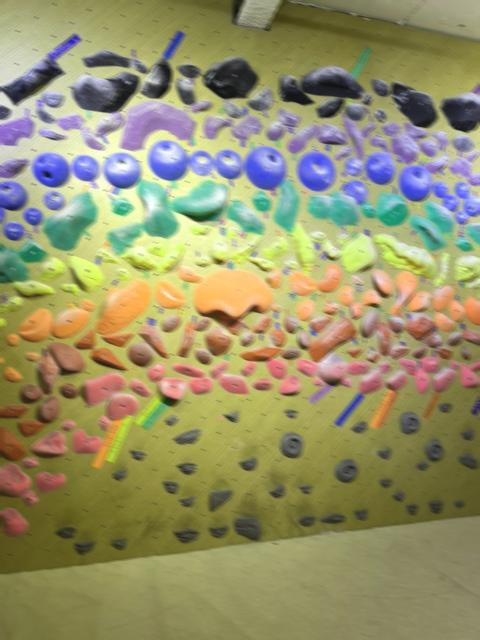crimp: (288, 125, 318, 152), (230, 116, 261, 139), (289, 272, 315, 295), (247, 87, 272, 110), (81, 127, 103, 149), (56, 114, 84, 129), (172, 364, 204, 377), (277, 108, 300, 126), (424, 155, 448, 172), (177, 266, 201, 281), (404, 123, 426, 139), (309, 316, 332, 331), (96, 248, 119, 262), (210, 361, 228, 378), (38, 128, 65, 139), (253, 315, 270, 331), (359, 200, 374, 217), (270, 330, 285, 345), (323, 300, 339, 314), (37, 109, 54, 122), (388, 347, 408, 358), (435, 346, 452, 358), (335, 147, 351, 159), (241, 362, 255, 375), (190, 225, 210, 234), (465, 150, 478, 161), (80, 300, 94, 310), (226, 227, 237, 238), (378, 361, 390, 371), (338, 234, 348, 243), (462, 347, 470, 358), (352, 275, 362, 283), (26, 353, 39, 359), (285, 261, 297, 267), (146, 318, 155, 325)
jib: (420, 357, 438, 371), (6, 334, 18, 344), (450, 360, 459, 367), (400, 340, 405, 344)
jug: (374, 233, 435, 275), (170, 180, 227, 221), (391, 81, 437, 127), (302, 65, 363, 96), (440, 93, 480, 131), (84, 373, 124, 404), (227, 200, 263, 233), (391, 271, 417, 313), (0, 114, 34, 144), (375, 193, 408, 223), (0, 248, 28, 281), (106, 394, 138, 419), (0, 427, 25, 459), (91, 348, 126, 369), (72, 430, 102, 451), (204, 116, 232, 138), (318, 265, 341, 291), (17, 241, 46, 261), (456, 255, 480, 279), (37, 396, 60, 421), (13, 281, 54, 295), (232, 235, 258, 257), (36, 472, 65, 491), (122, 246, 149, 266), (318, 124, 346, 143), (0, 158, 28, 177), (359, 370, 382, 393), (264, 237, 288, 257), (17, 420, 45, 435), (20, 384, 42, 401), (174, 429, 200, 443), (128, 379, 150, 395), (404, 123, 426, 139), (414, 368, 429, 391), (211, 238, 227, 259), (111, 198, 132, 214), (266, 121, 284, 139), (434, 313, 453, 330), (210, 361, 228, 378), (266, 268, 281, 287), (324, 241, 339, 258), (59, 383, 77, 397), (458, 454, 477, 467), (22, 490, 38, 505), (239, 456, 257, 469), (323, 300, 339, 314), (424, 333, 441, 346), (192, 100, 212, 111), (456, 237, 472, 250), (61, 284, 79, 295), (7, 296, 21, 310), (447, 332, 462, 345), (309, 230, 325, 242), (413, 344, 426, 358), (240, 332, 254, 345), (223, 409, 238, 421), (113, 467, 127, 479), (366, 350, 378, 362), (461, 428, 474, 439), (116, 268, 129, 279), (180, 495, 194, 505), (196, 256, 210, 265), (130, 450, 144, 459), (469, 360, 480, 370), (144, 258, 156, 267), (467, 279, 480, 287), (145, 258, 156, 267), (284, 410, 297, 417), (338, 234, 348, 243), (235, 255, 245, 263)
ledge: (122, 101, 195, 150), (121, 101, 194, 149), (43, 192, 97, 249), (95, 280, 150, 335), (2, 58, 63, 103), (74, 71, 138, 111), (204, 56, 257, 98), (307, 317, 357, 359), (108, 223, 142, 252), (329, 192, 359, 224), (138, 326, 167, 356), (425, 201, 453, 232), (288, 125, 318, 152), (155, 281, 184, 307), (83, 50, 130, 66), (205, 326, 231, 354), (391, 134, 417, 162), (230, 116, 261, 139), (94, 112, 123, 135), (340, 180, 366, 203), (17, 241, 46, 261), (0, 158, 28, 177), (240, 347, 282, 359), (317, 99, 343, 117), (308, 196, 330, 217), (277, 108, 300, 126), (103, 332, 132, 346), (188, 377, 212, 393), (177, 266, 201, 281), (309, 316, 332, 331), (252, 191, 270, 210), (296, 359, 316, 375), (465, 223, 480, 243), (177, 64, 200, 77), (462, 329, 480, 343), (456, 237, 472, 250), (252, 379, 272, 389)
pinch: (410, 215, 446, 251), (36, 354, 60, 391), (177, 322, 195, 355)
pocket: (243, 145, 285, 188), (245, 146, 286, 188), (149, 140, 187, 179), (297, 151, 334, 189), (104, 153, 140, 187), (32, 153, 69, 186), (68, 256, 102, 290), (399, 166, 432, 199), (366, 151, 394, 183), (106, 394, 138, 419), (0, 427, 25, 459), (215, 150, 243, 177), (0, 181, 27, 209), (158, 243, 184, 271), (72, 155, 99, 179), (340, 180, 366, 203), (189, 150, 213, 174), (38, 258, 64, 279), (176, 78, 196, 103), (266, 359, 286, 378), (3, 221, 24, 239), (43, 191, 64, 209), (44, 191, 64, 209), (344, 157, 362, 175), (463, 196, 480, 215), (162, 314, 180, 331), (24, 207, 42, 223), (443, 195, 459, 210), (194, 348, 210, 363), (283, 315, 297, 331), (433, 181, 447, 196), (146, 244, 165, 255), (455, 182, 468, 197), (455, 210, 468, 223)
sidepull: (138, 180, 178, 236), (204, 56, 257, 98), (140, 57, 171, 97), (341, 235, 375, 271), (274, 180, 298, 230), (291, 223, 314, 267), (343, 115, 363, 158), (177, 322, 195, 355), (176, 78, 196, 103)
sloper: (0, 464, 30, 495), (318, 353, 347, 381), (0, 508, 27, 535), (128, 342, 153, 365), (122, 246, 148, 266), (432, 286, 453, 310), (361, 310, 378, 336), (361, 310, 378, 335), (20, 384, 42, 401), (0, 206, 5, 223)
tape: (92, 419, 119, 467), (105, 416, 131, 461), (369, 391, 398, 427), (334, 393, 363, 425), (48, 33, 80, 59), (134, 394, 160, 424), (141, 402, 167, 429), (161, 30, 184, 58), (351, 46, 370, 78), (308, 384, 332, 403), (423, 392, 439, 418)
undercling: (194, 270, 273, 319), (47, 343, 84, 371), (138, 326, 167, 356), (31, 431, 66, 455), (158, 378, 186, 398), (240, 347, 282, 359), (372, 270, 392, 295), (408, 292, 432, 310), (377, 323, 390, 354), (279, 374, 300, 393), (188, 377, 212, 393), (414, 368, 429, 391), (4, 367, 21, 381), (362, 290, 380, 303), (350, 302, 363, 318)
